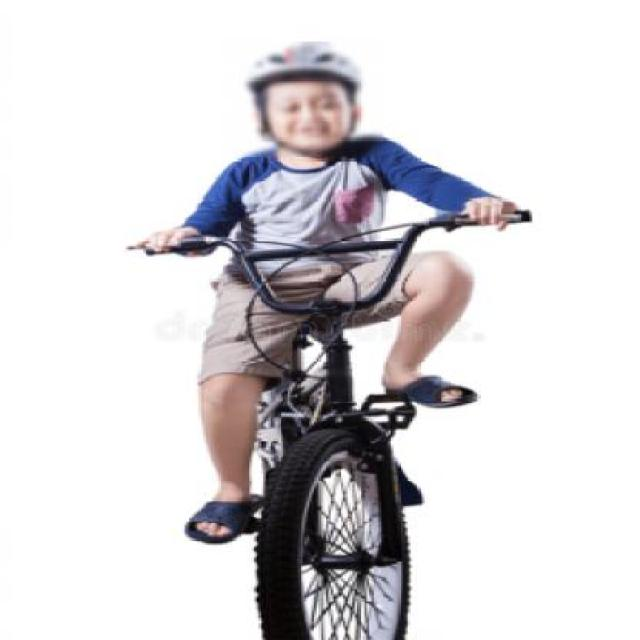With Helmet: (224, 42, 384, 158)
